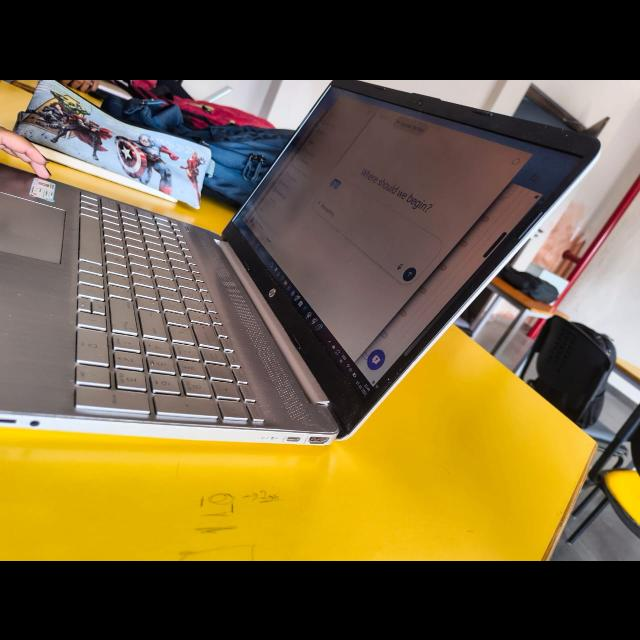laptop: (1, 90, 634, 438)
